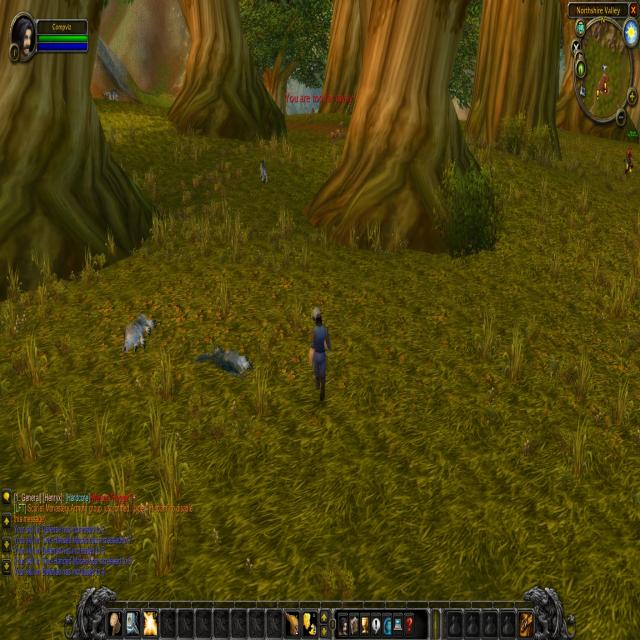wolf: (194, 341, 255, 383), (121, 304, 160, 360), (256, 154, 271, 190), (100, 85, 120, 106)
